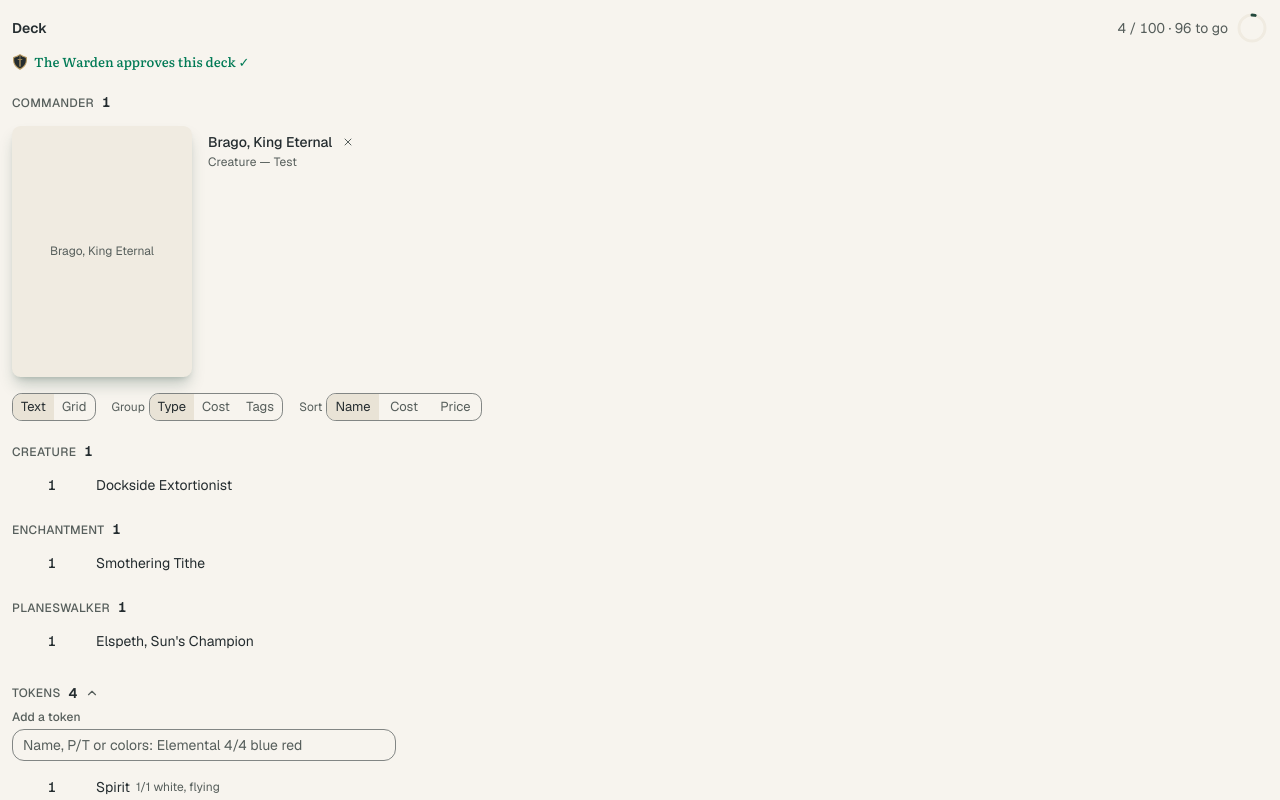
Scenario: the Tokens section in the editor (DECK-TOKENS) › a broad search says how many it shows and pages the rest with Show more
Type "elemental" into the search field labelled "Add a token".
click(204, 745); type("elemental")  # box [12,729,396,761]
(page scrolled)
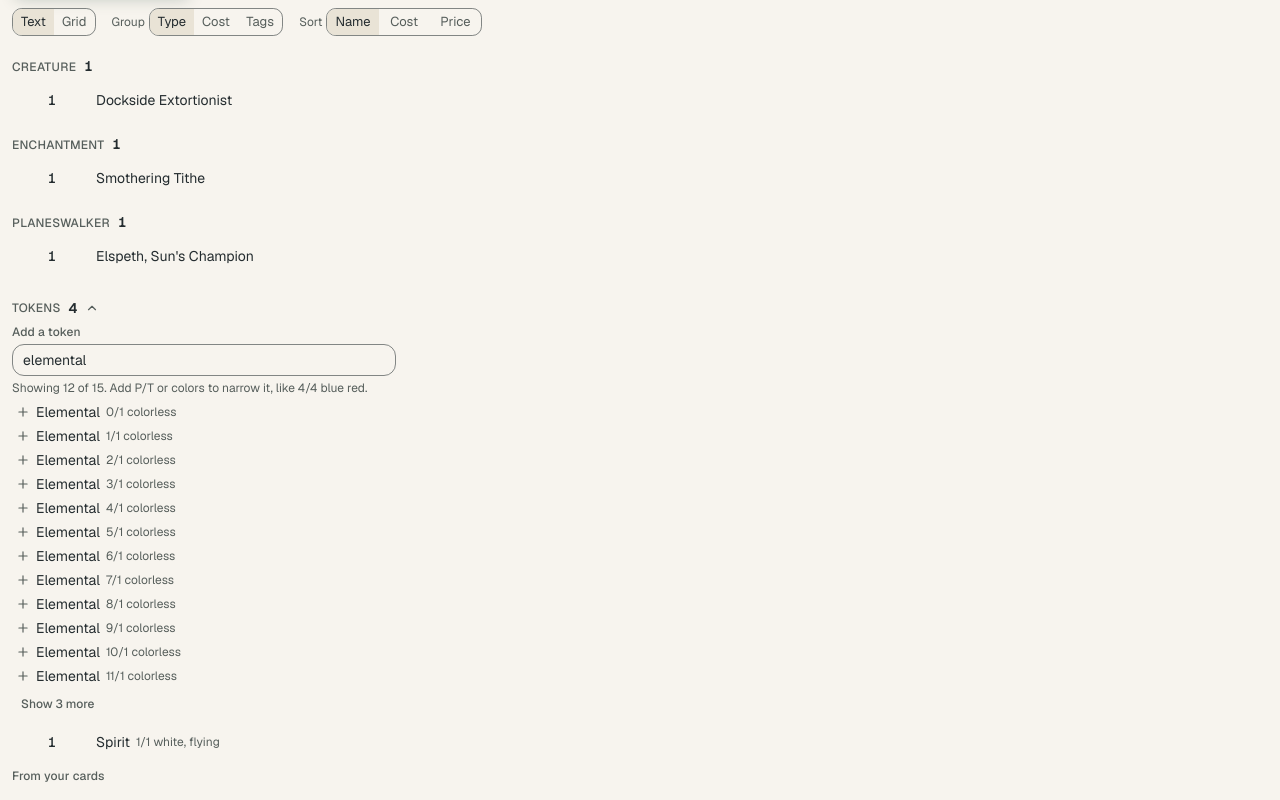
Now the text "Showing 12 of 15. Add P/T or colors to narrow it, like 4/4 blue red." is shown, box [12,380,367,396]
Click the button "Show 3 more".
click(58, 704)  # box [12,692,103,716]
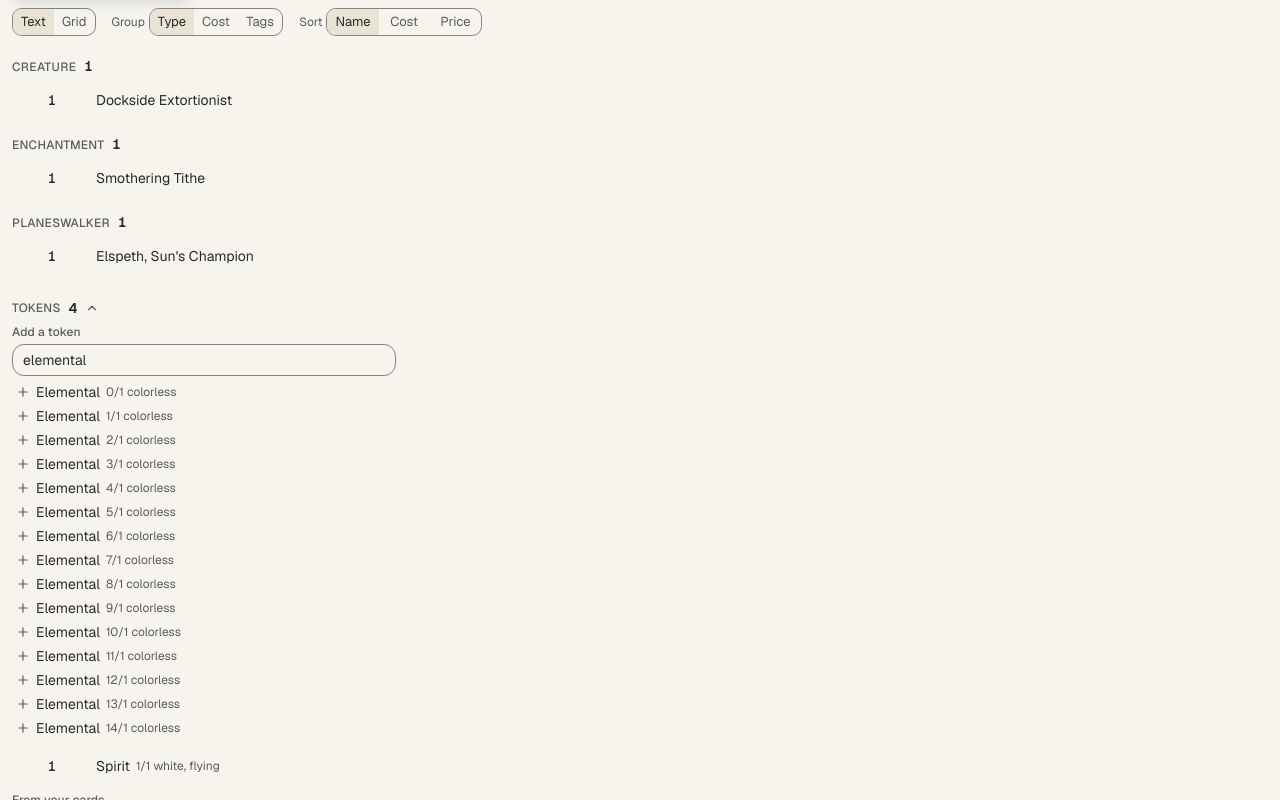
Now the text "Showing " is gone
Now the button "Show 3 more" is gone
